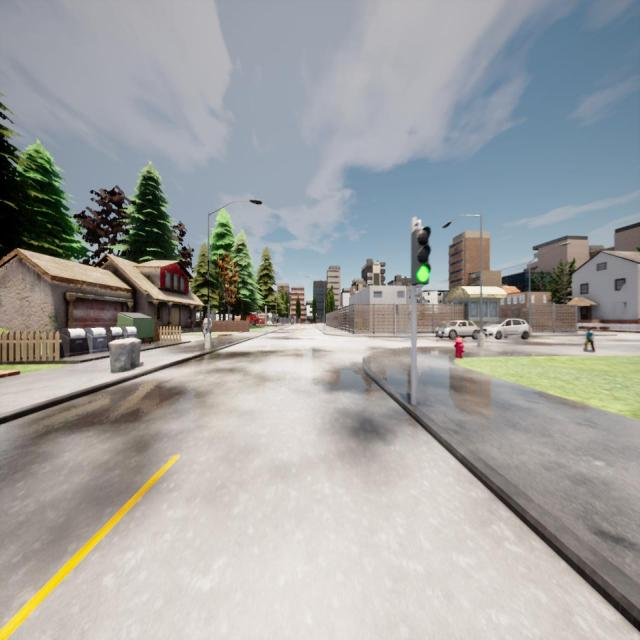Pedestrian: (203, 313, 212, 341), (585, 328, 594, 352)
Vehicle: (483, 318, 531, 338), (437, 320, 479, 339), (246, 314, 266, 326)
traffic_light: (412, 230, 430, 283), (316, 313, 317, 316)
